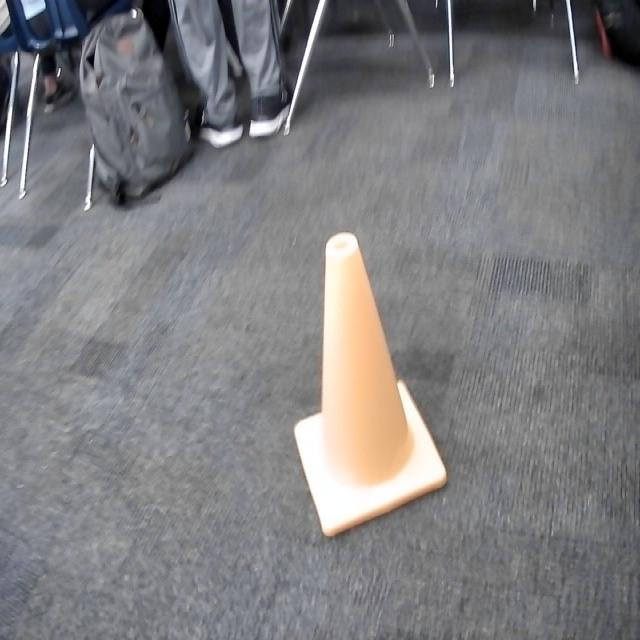cone: (294, 229, 446, 534)
